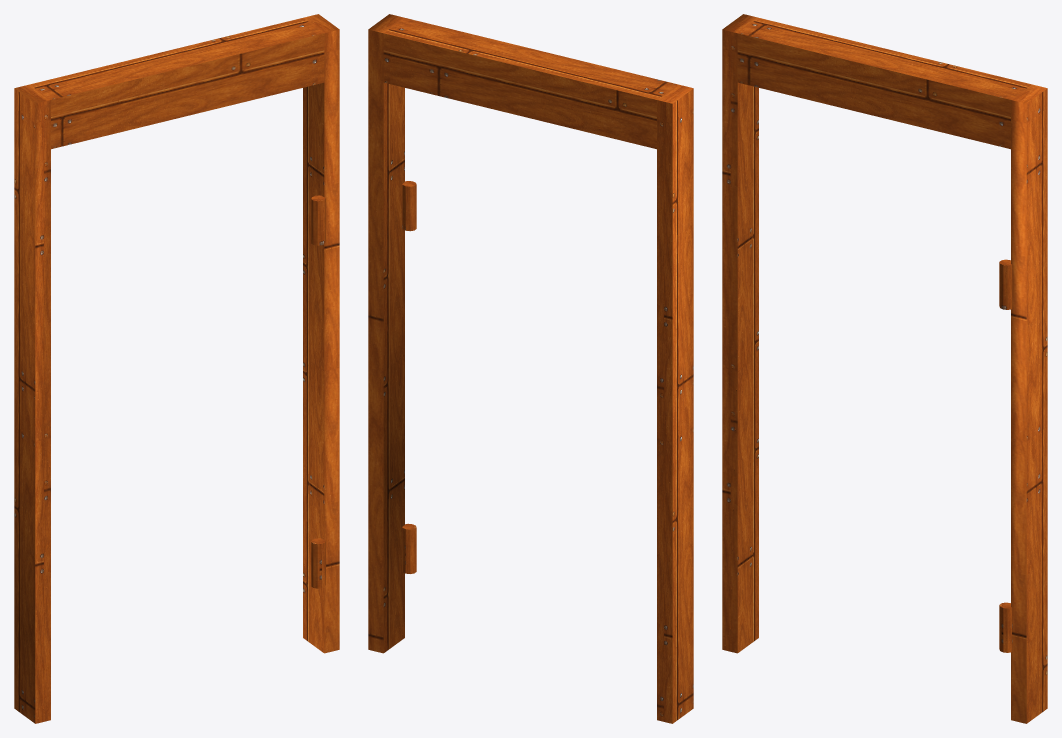
Rendered from Door_Frame_A.fbx.
3 renders of one model, left to right at view 1: azimuth 30°, elevation 25°; view 2: azimuth 150°, elevation 25°; view 3: azimuth 330°, elevation 25°, orthographic.
Parts seen in each view (by area): view 1: Door_Frame_A; view 2: Door_Frame_A; view 3: Door_Frame_A.
Boxes of the visible parts, box(x1,y1,x2,y2) form: Door_Frame_A: box(14, 14, 339, 723); Door_Frame_A: box(368, 14, 693, 723); Door_Frame_A: box(722, 14, 1047, 723).
Bounding box in the file's own units: 1 × 1.95 × 0.1364.
